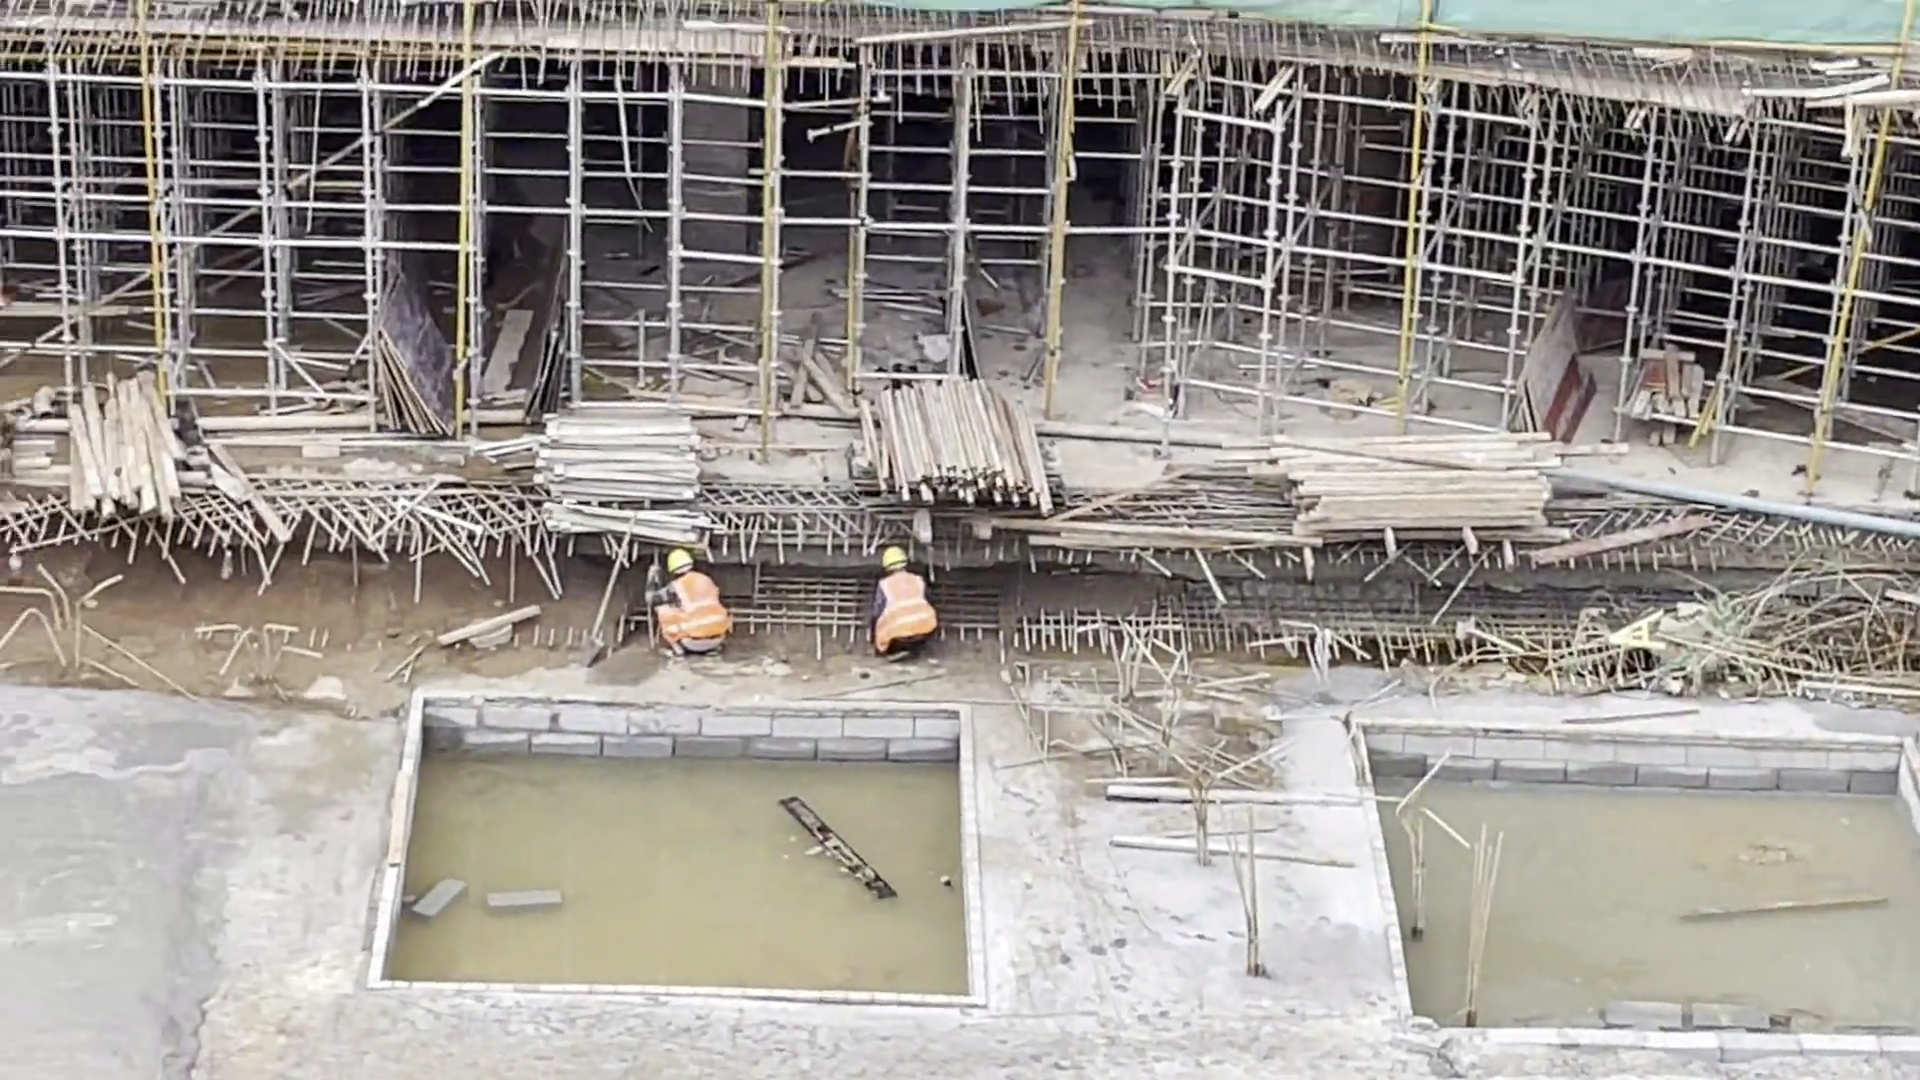helmet: (665, 549, 693, 576), (881, 548, 909, 572)
person: (648, 548, 731, 657), (868, 546, 942, 663)
vest: (871, 571, 937, 657), (652, 574, 731, 641)
wood: (1268, 419, 1589, 539), (69, 365, 182, 516)
